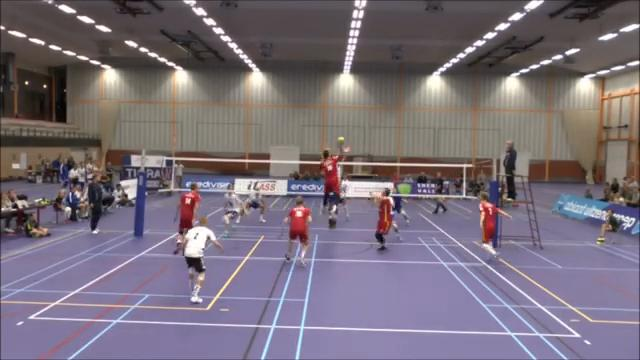attacco: (316, 133, 351, 221)
